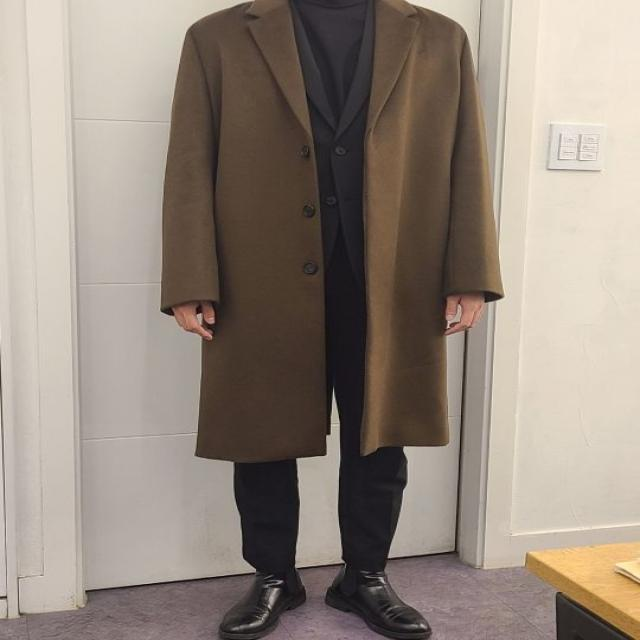coat: (157, 0, 503, 457)
slacks: (237, 257, 408, 576)
